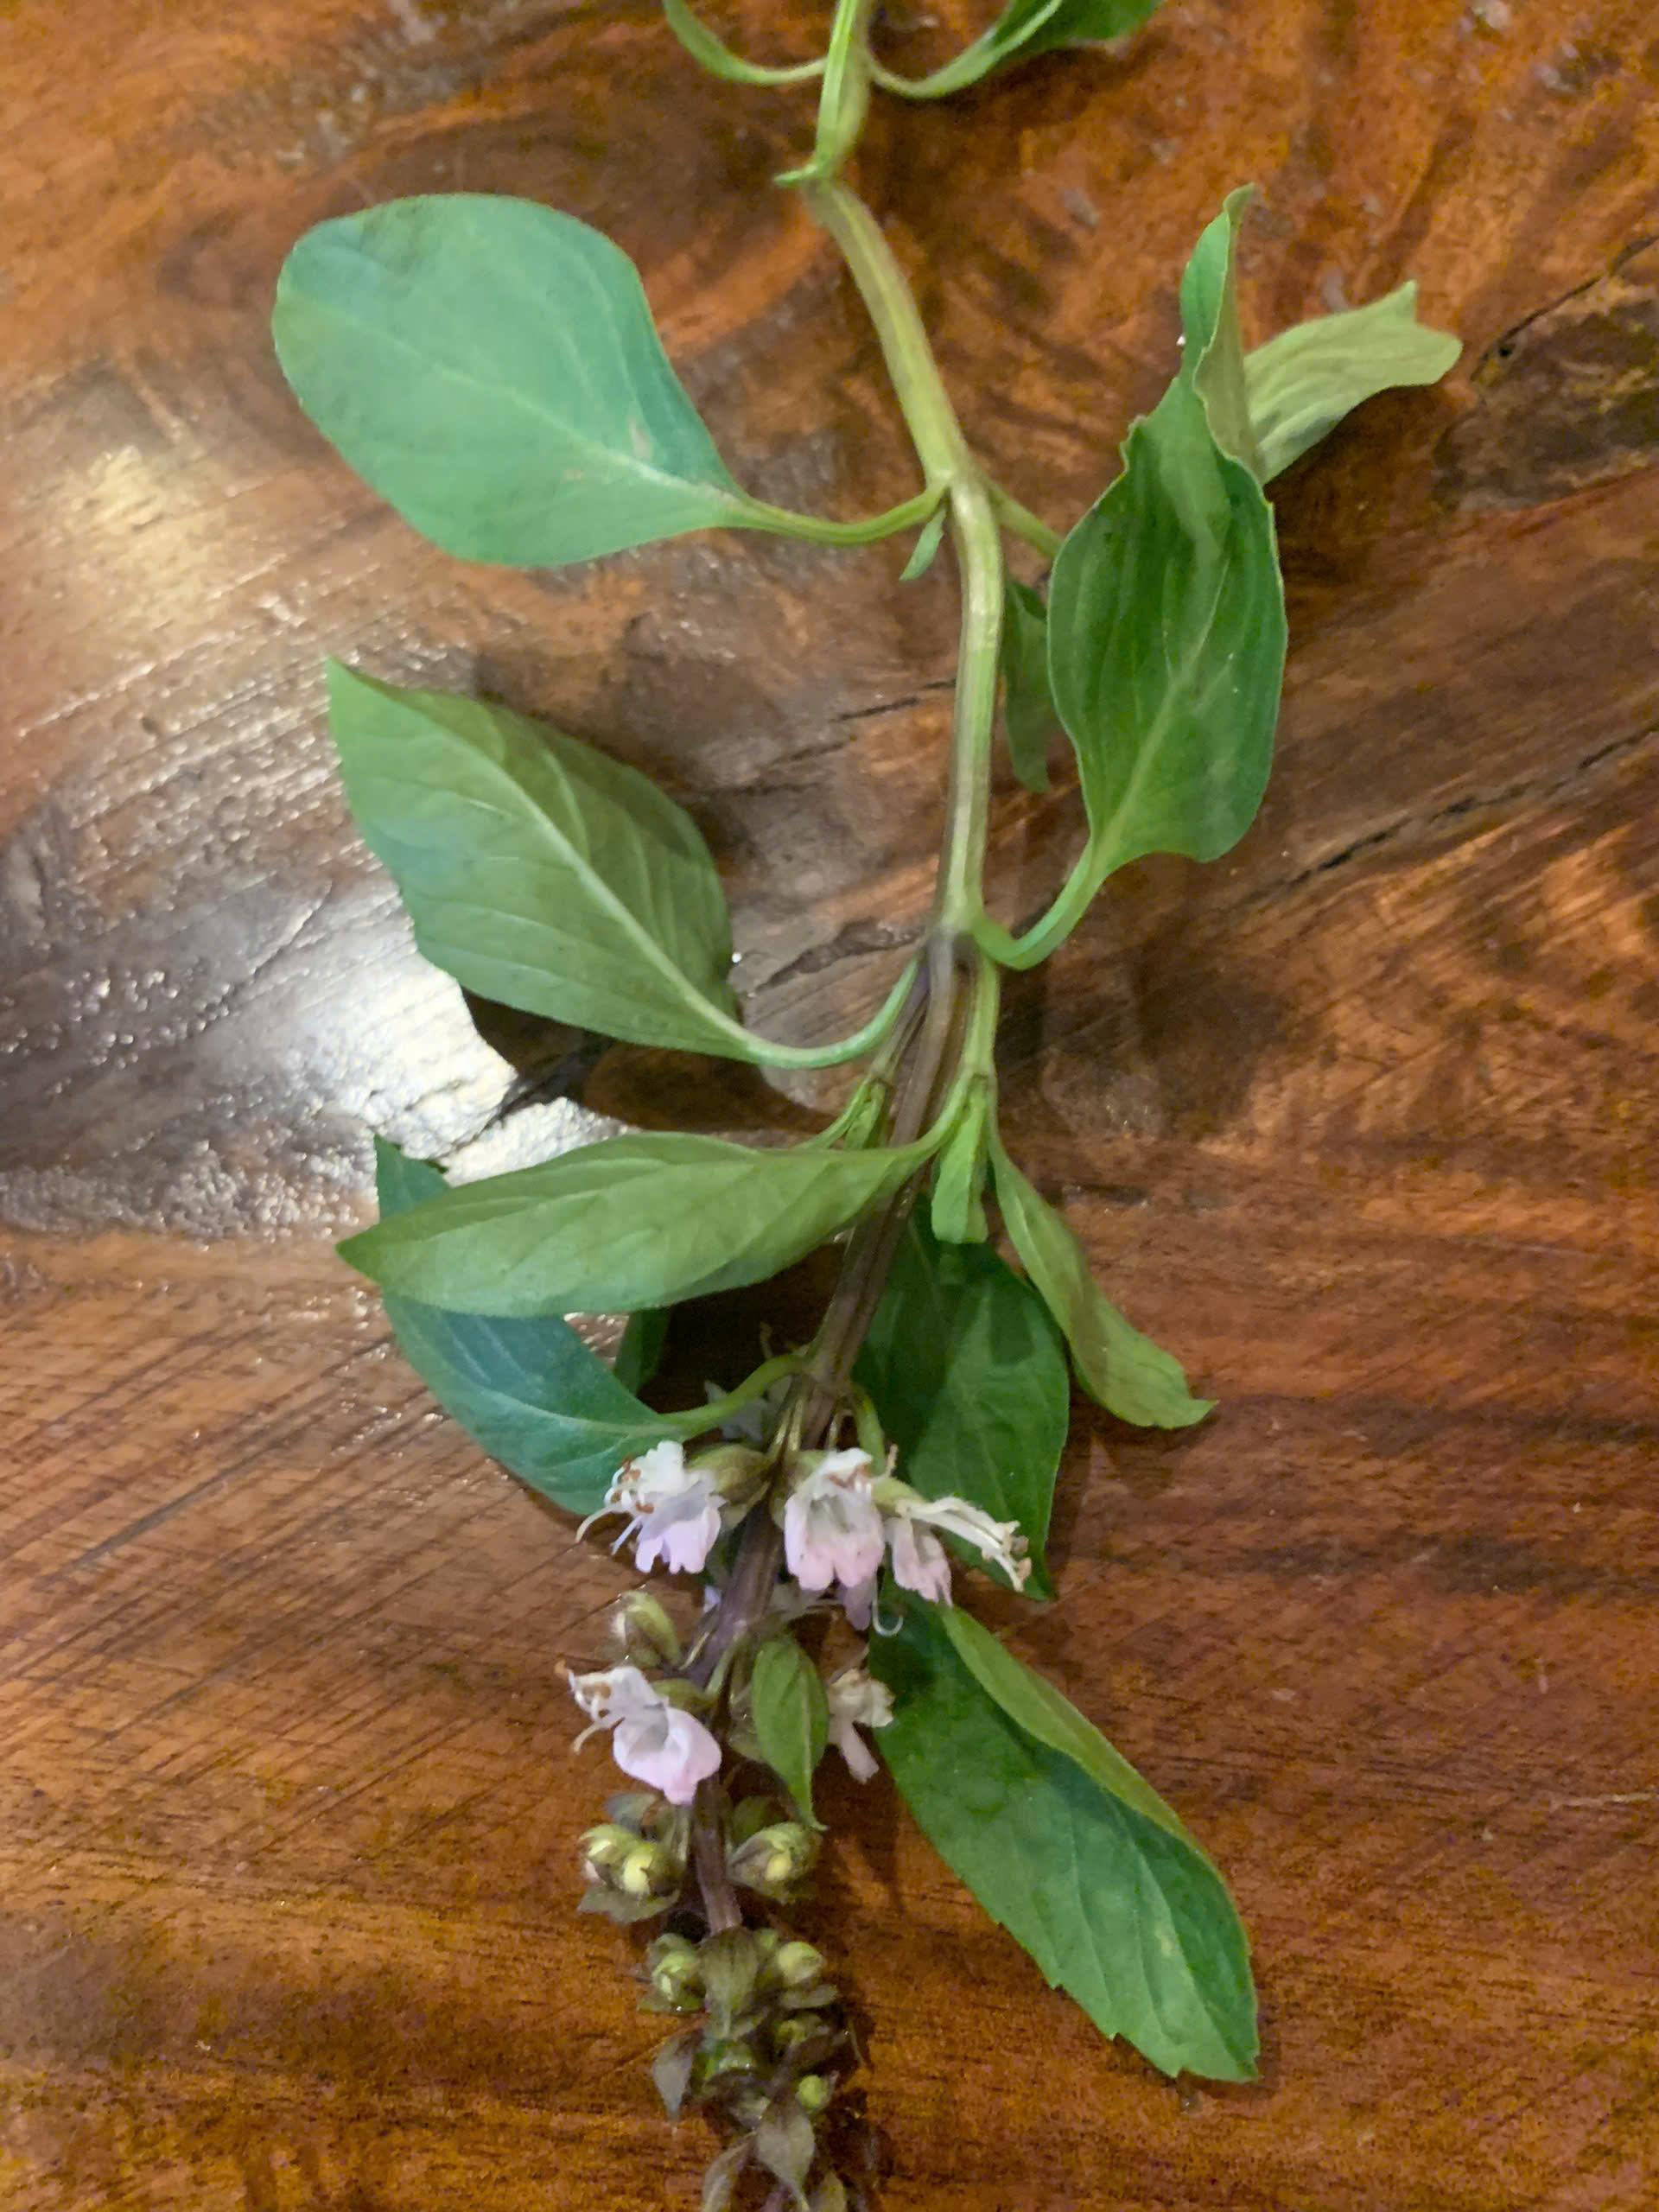Huu co: (281, 31, 1290, 2081)
